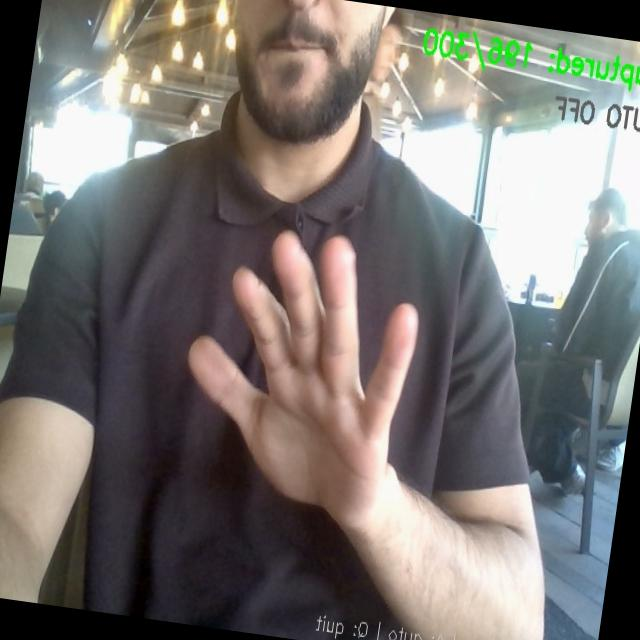Hand: (189, 231, 417, 527)
